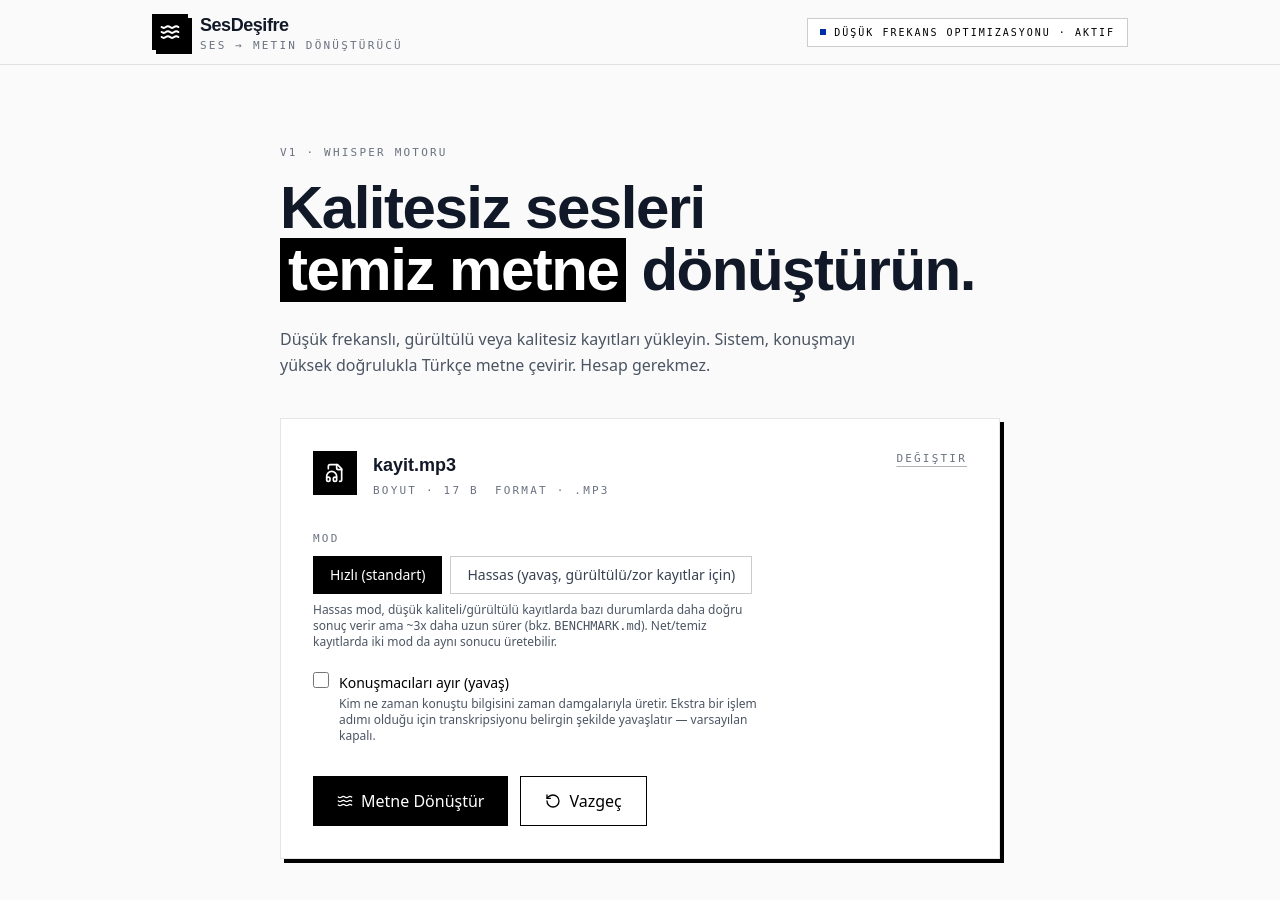
Test: <Transcriber /> › backend 400/500 hatası döndüğünde kullanıcıya sunucudan gelen mesajı gösterir
The width and height of the screenshot is (1280, 900).
Earlier steps of the test are not shown.
Click the button with test id "start-transcribe-btn" at coordinates (411, 800), box [313,776,508,826]
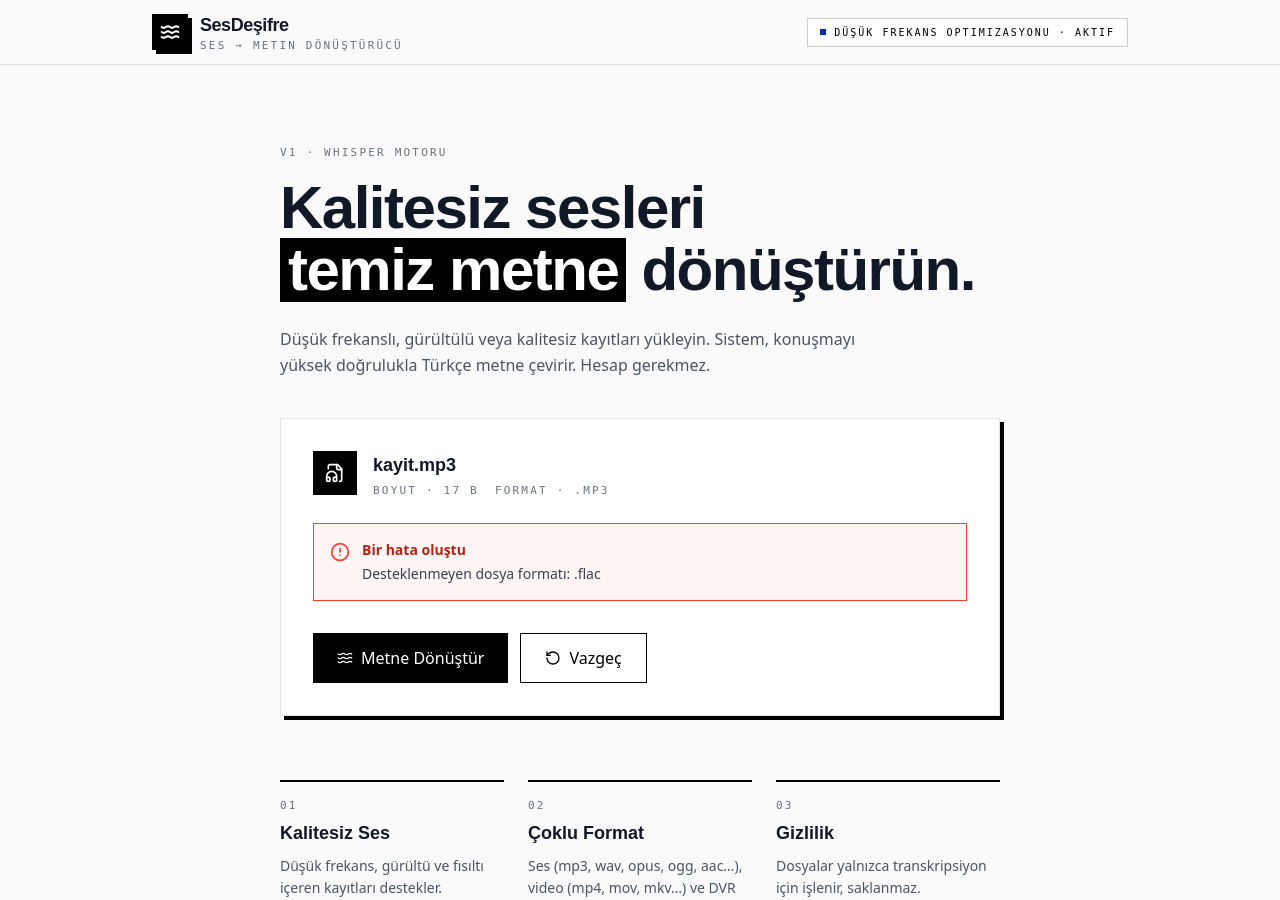
expect the element with test id "error-panel" shows "Desteklenmeyen dosya formatı: .flac": met, box [362,564,601,583]
